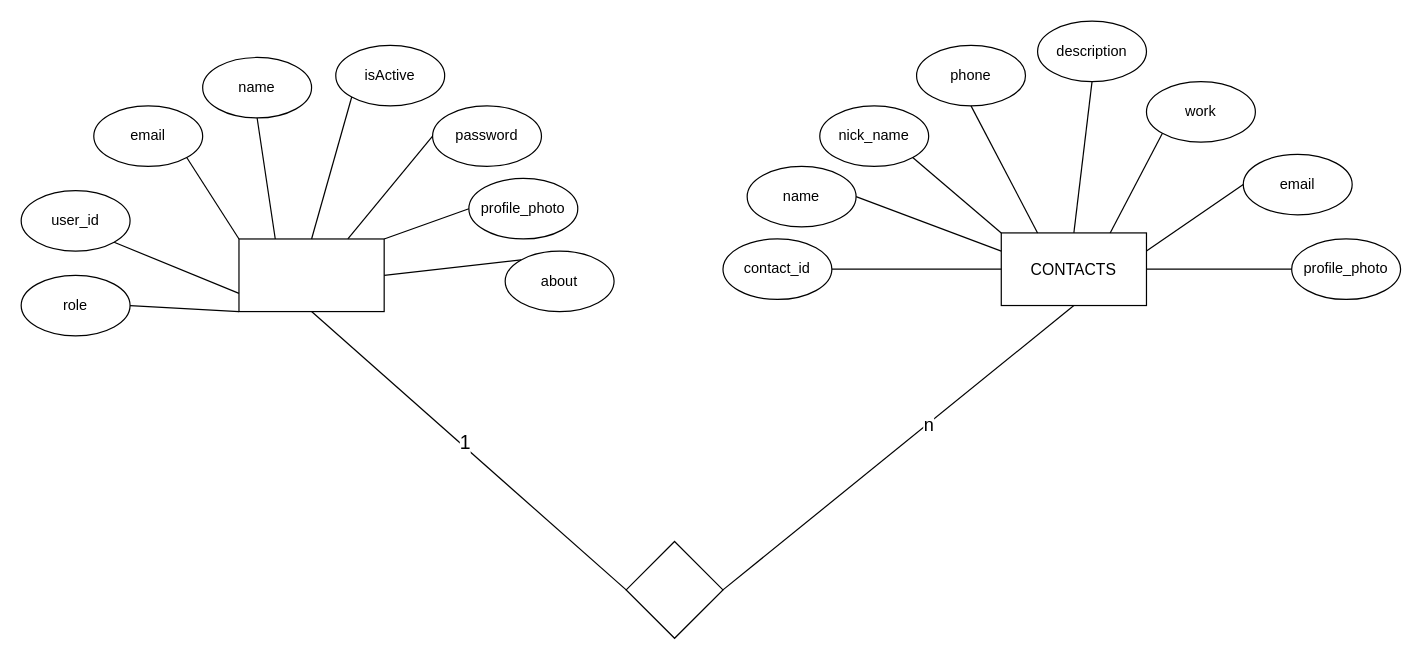
This 1422x659 diagram has some shape labels left out. Here are the shapes that lost their labels. From the top down, the box of each, then its label:
(238, 238, 384, 312): USERS
(625, 540, 723, 638): has
